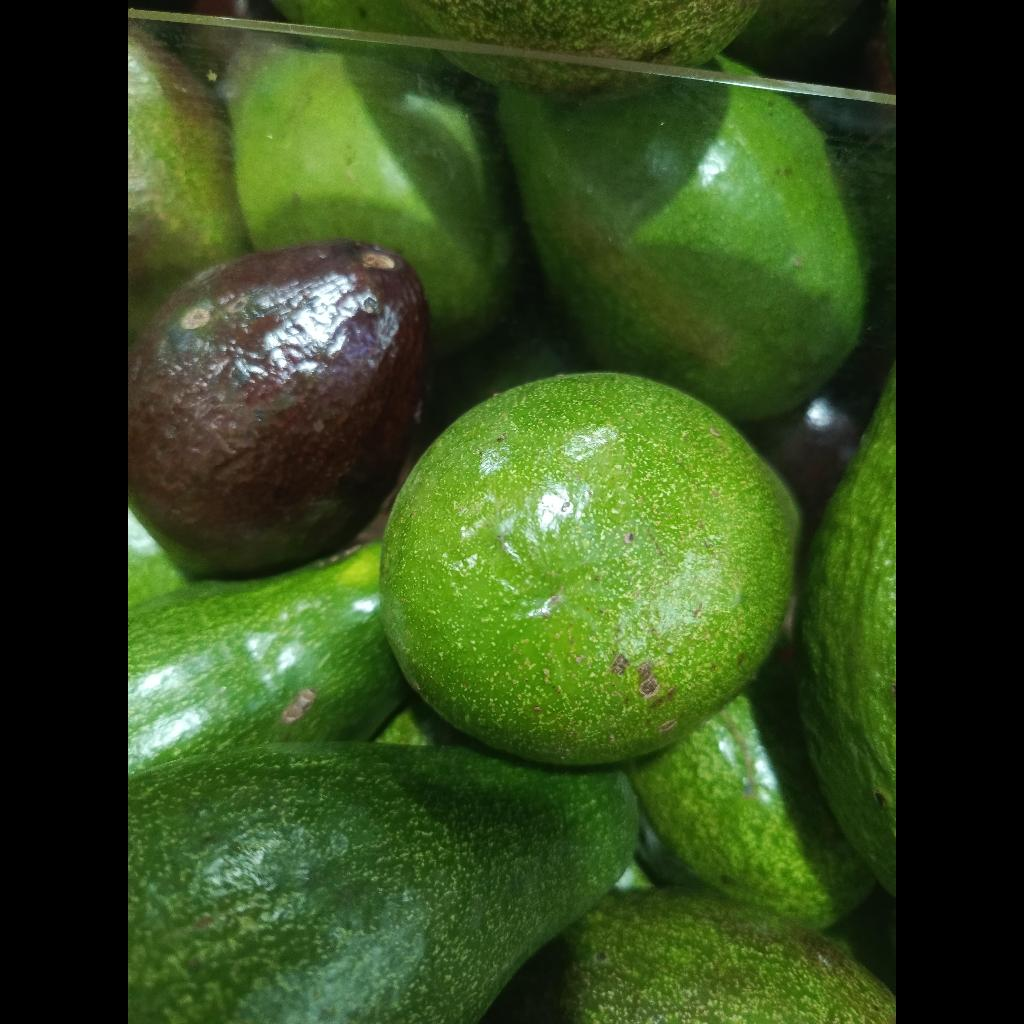healthy: (128, 742, 636, 1024)
scab: (380, 373, 797, 765), (128, 239, 430, 578)
